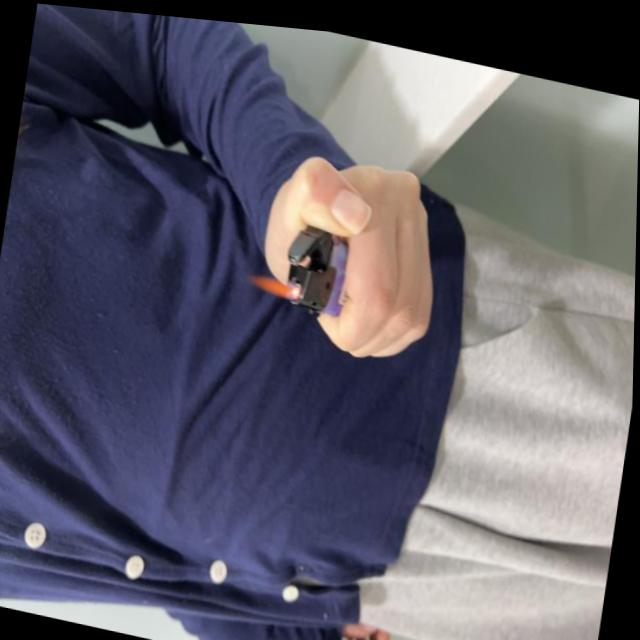Fire: (247, 264, 304, 296)
